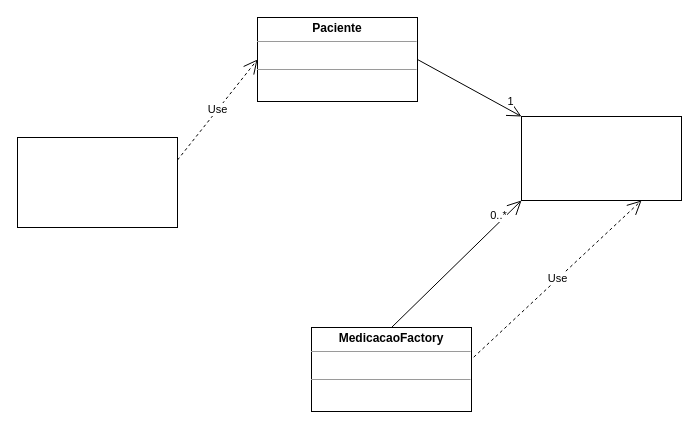
Image size: 699x429. Some labels were removed from this diagram. The shapes that lost their labels are listed below. From the top down, each one's centre as x and y in pixels, then its label:
At [601,158]: "Medicacao".
At [97,182]: "Medico + prescreverMedicacao(): void".
